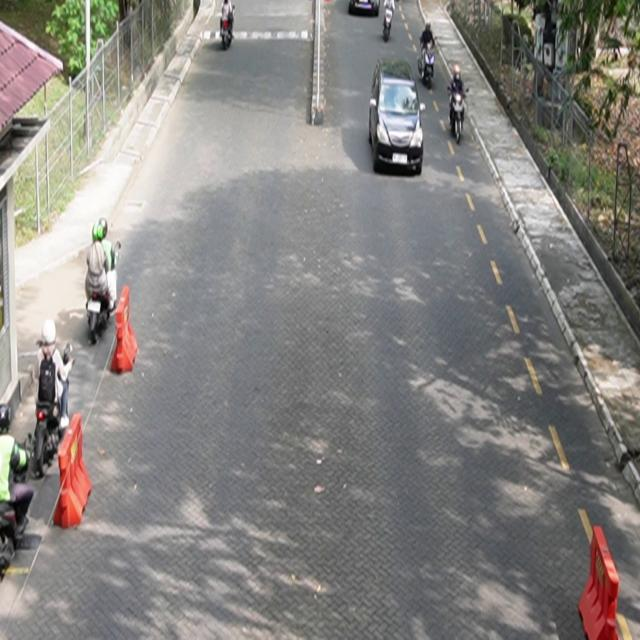car: (369, 58, 426, 176)
